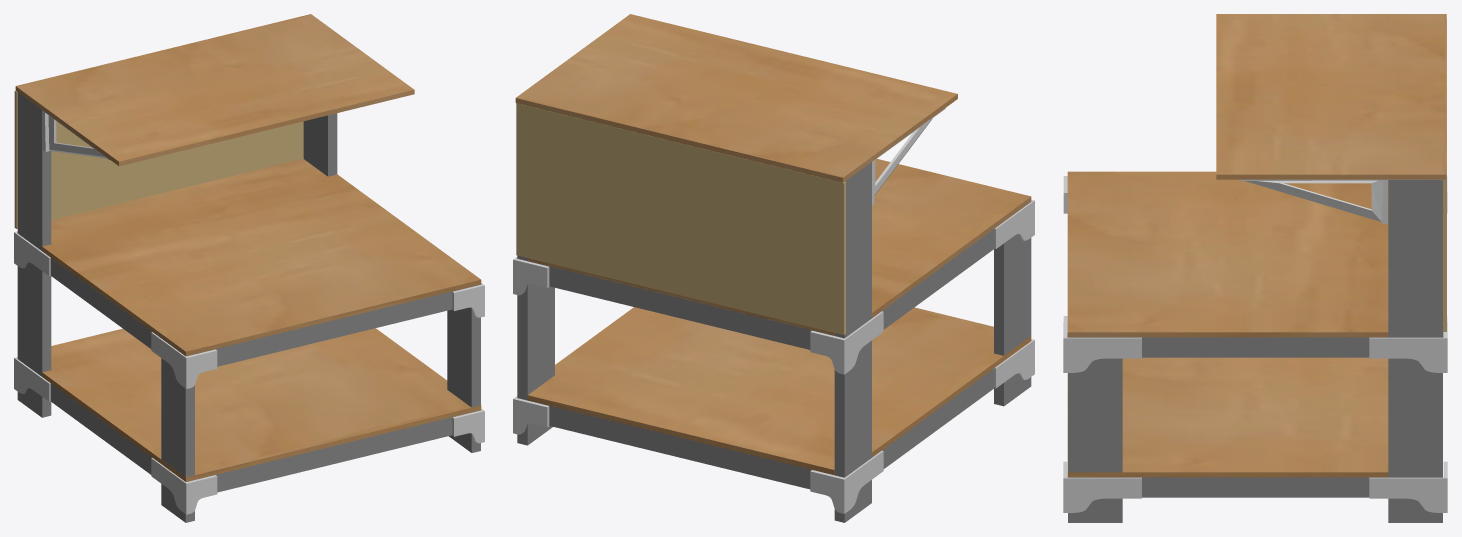
The model's file is sh-bsby-workbench.glb.
3 renders of one model, left to right at view 1: azimuth 30°, elevation 25°; view 2: azimuth 150°, elevation 25°; view 3: azimuth 270°, elevation 25°, orthographic. The views are drawn at different scales.
Visible parts, largest first — view 1: Top.001_Cube.018, 2x4.007_Cube.012, Pegboard_Cube.016, Brace.007_Plane.011; view 2: Top.001_Cube.018, Pegboard_Cube.016, 2x4.007_Cube.012, Brace.007_Plane.011; view 3: Top.001_Cube.018, 2x4.007_Cube.012, Brace.007_Plane.011, Pegboard_Cube.016.
Part boxes in pixels (x1,y1,x2,y2): Top.001_Cube.018: (15,14,481,481); 2x4.007_Cube.012: (17,92,480,522); Pegboard_Cube.016: (14,90,303,228); Brace.007_Plane.011: (14,111,484,514); Top.001_Cube.018: (515,14,1031,474); Pegboard_Cube.016: (516,103,845,334); 2x4.007_Cube.012: (517,162,1031,522); Brace.007_Plane.011: (513,108,1034,513); Top.001_Cube.018: (1067,14,1446,477); 2x4.007_Cube.012: (1068,179,1442,522); Brace.007_Plane.011: (1063,176,1447,512); Pegboard_Cube.016: (1443,19,1446,331).
Size of the model in its own units: 1 by 1 by 1.
Materials: 4 (1 with a texture image).
